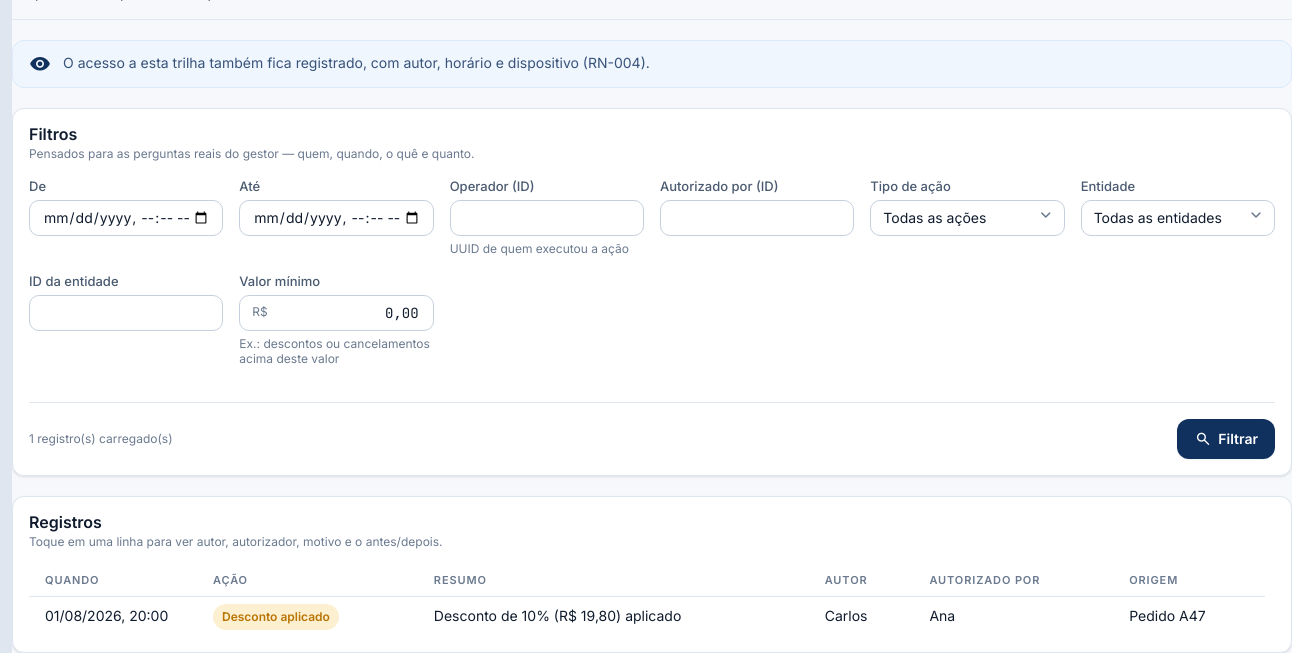
Test: AuditLogPage › nunca exibe antes/depois como JSON bruto — sempre como lista de chave/valor legível
(page scrolled)
Expected: the text "Desconto de 10% (R$ 19,80) aplicado" is shown, [418, 596, 809, 636]
# Expande a linha clicando nela.
Click the text "Desconto de 10% (R$ 19,80) aplicado".
click(647, 616)  # box [29, 596, 1265, 636]
(page scrolled)
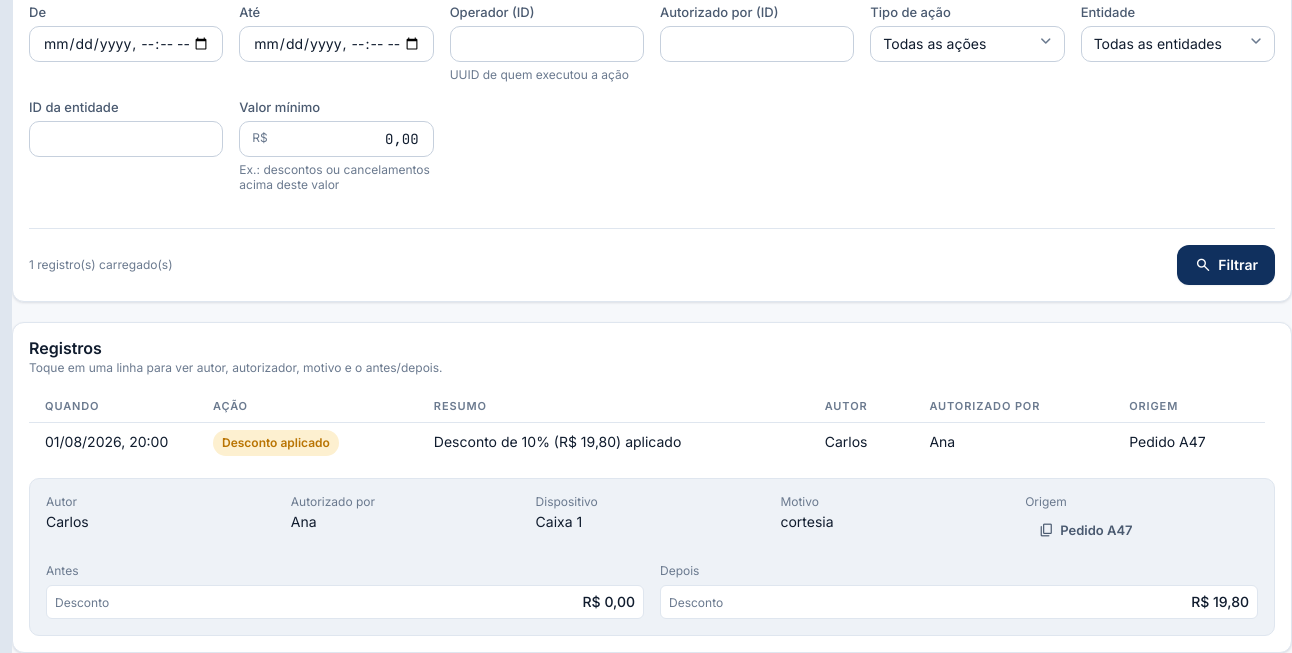
Expected: the text "Antes" is shown, [46, 563, 78, 578]
Expected: the text "Depois" is shown, [660, 563, 700, 578]
Expected: the text "Desconto" is shown 2 times, [55, 596, 109, 611]; [669, 596, 723, 611]
